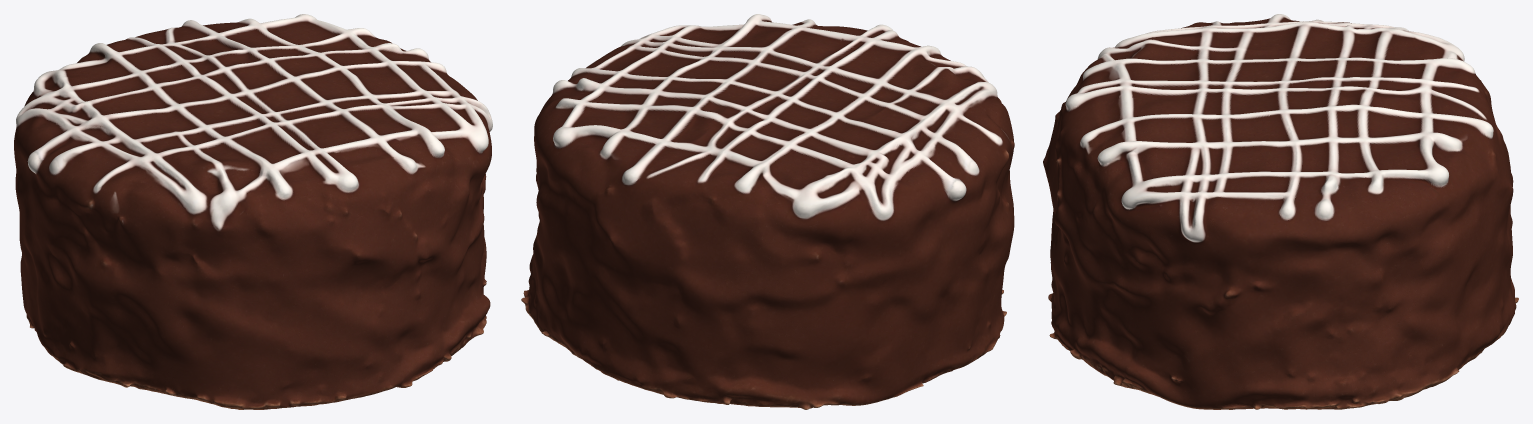
The model's file is Meshy_AI_Chocolate_Lattice_Cake_20261120_texture.fbx.
3 renders of one model, left to right at view 1: azimuth 30°, elevation 25°; view 2: azimuth 150°, elevation 25°; view 3: azimuth 270°, elevation 25°, orthographic.
Parts seen in each view (by area): view 1: Mesh_0; view 2: Mesh_0; view 3: Mesh_0.
Part boxes in pixels (x1,y1,x2,y2): Mesh_0: [14, 14, 492, 409]; Mesh_0: [521, 14, 1014, 409]; Mesh_0: [1043, 14, 1518, 409].
Bounding box in the file's own units: 190 × 98.72 × 183.
Materials: 1 (1 with a texture image).
